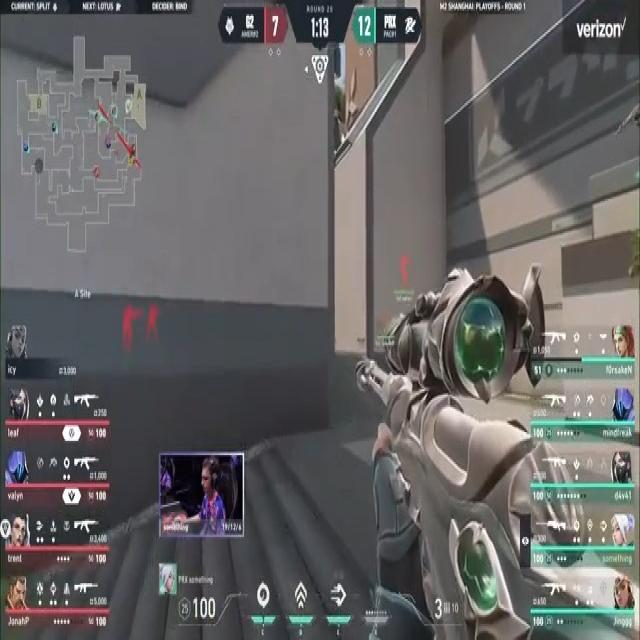enemy behind wall: (144, 295, 168, 351), (121, 300, 140, 348)
